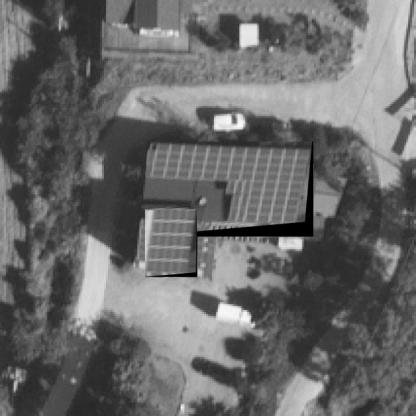solar-pv-panel: (146, 142, 312, 226), (145, 209, 197, 275)
